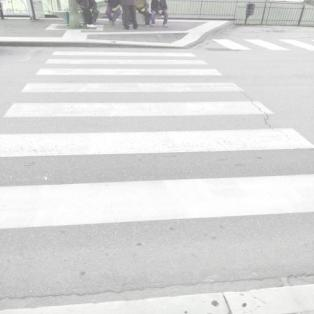Paso de Cebra: (1, 79, 276, 124), (42, 48, 209, 67)
